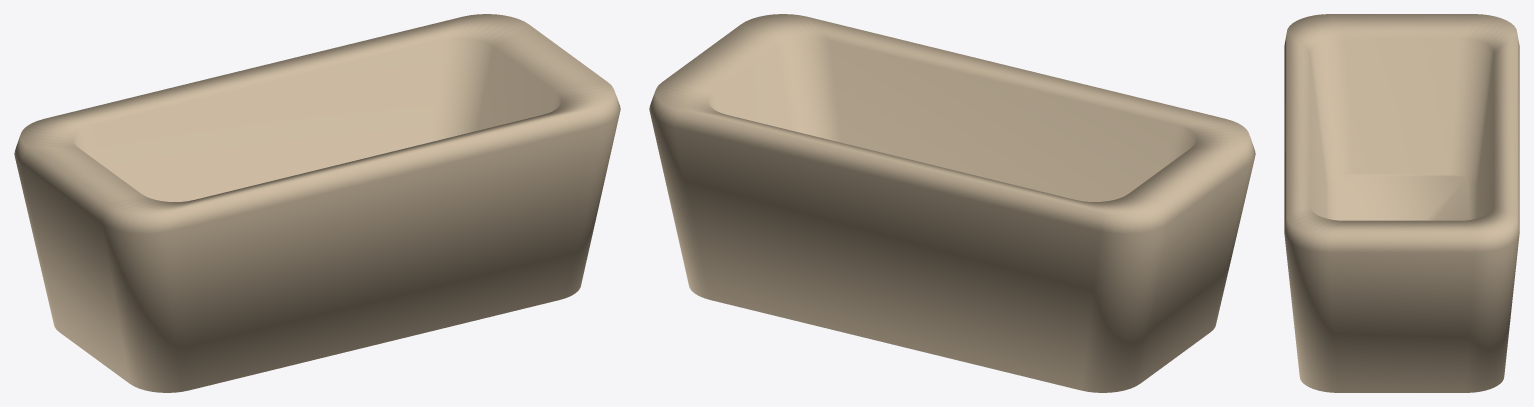
3 renders of one model, left to right at view 1: azimuth 30°, elevation 25°; view 2: azimuth 150°, elevation 25°; view 3: azimuth 270°, elevation 25°, orthographic. The views are drawn at different scales.
Visible parts, largest first — view 1: bath_shell; view 2: bath_shell; view 3: bath_shell.
Part boxes in pixels (x1=…): bath_shell: x1=14, y1=14, x2=620, y2=392; bath_shell: x1=649, y1=14, x2=1255, y2=392; bath_shell: x1=1284, y1=14, x2=1519, y2=392.
Size of the model in its own units: 1.7 by 0.6 by 0.75.
